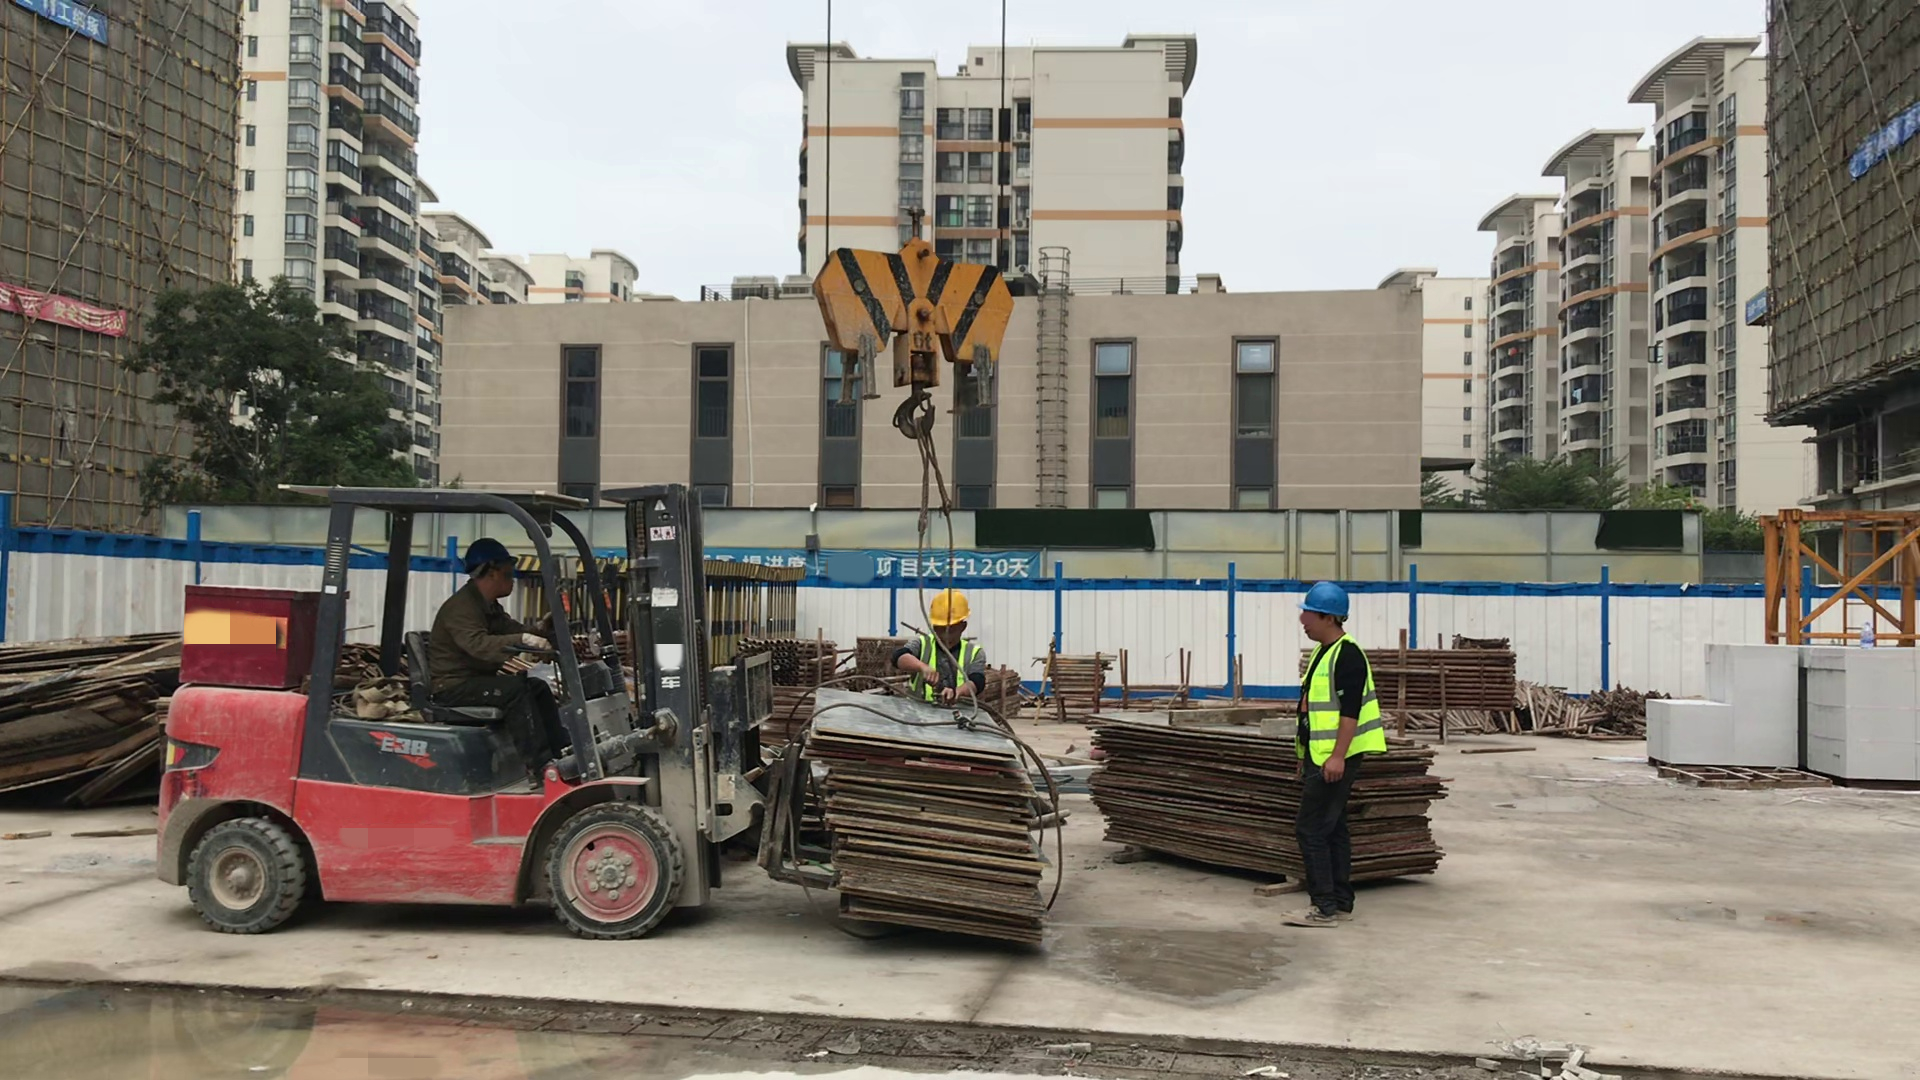board: (789, 686, 1074, 963), (1087, 711, 1463, 905)
brick: (1639, 627, 1808, 790), (1813, 629, 1920, 778)
helmet: (1293, 578, 1355, 619), (459, 538, 522, 568), (925, 587, 972, 624)
hook: (805, 207, 1022, 424)
person: (392, 522, 610, 793), (1258, 575, 1418, 931), (891, 587, 1004, 734)
scaffold: (1376, 645, 1515, 710), (747, 638, 838, 685)
slogan: (1, 262, 131, 338), (738, 553, 1038, 575), (21, 1, 102, 50)
vest: (1295, 647, 1383, 755), (916, 635, 968, 700)
